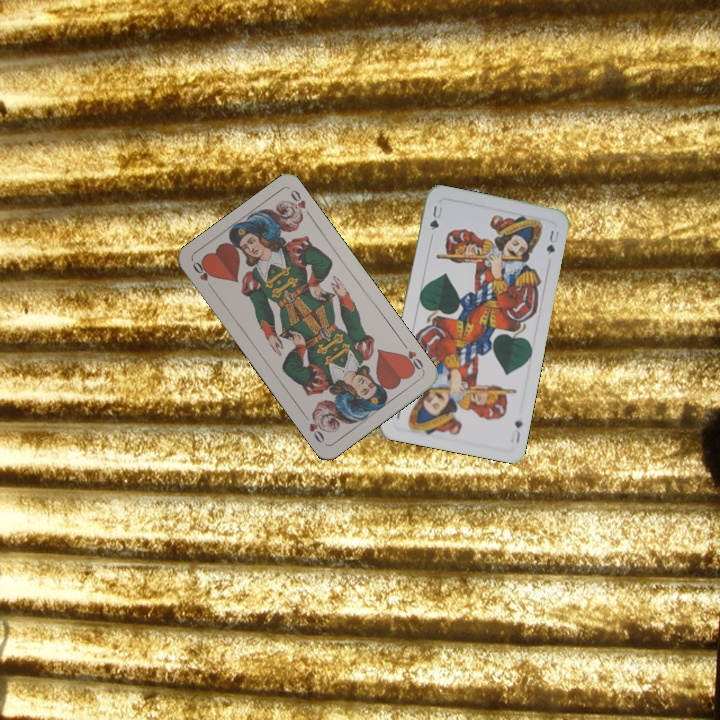GU: (426, 202, 445, 233), (506, 416, 525, 446)
HO: (188, 257, 217, 293), (398, 338, 426, 374)
